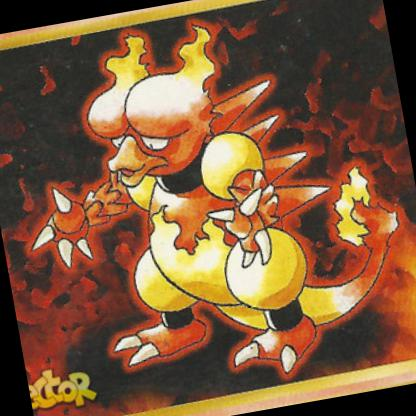Magmar: (1, 1, 412, 416)
